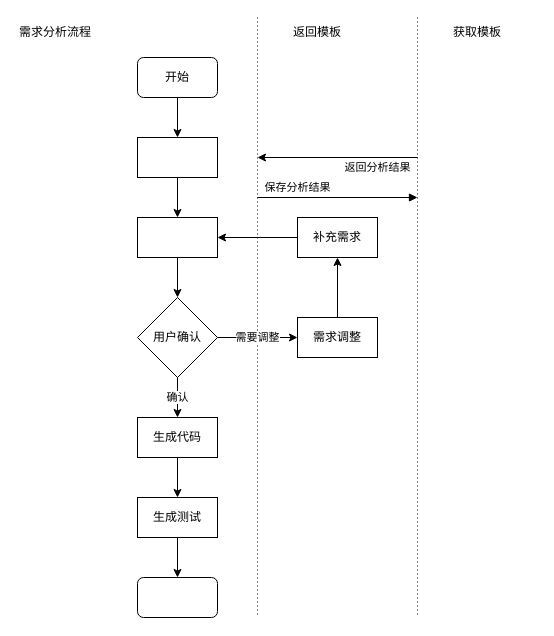
The diagram is 554 pixels wide and 636 high, and some of its shapes have lost their labels. Here are the shapes that lost their labels. From the top down, the centre of each, then its label:
(x=177, y=157): 输入需求
(x=177, y=237): AI分析
(x=177, y=597): 结束
